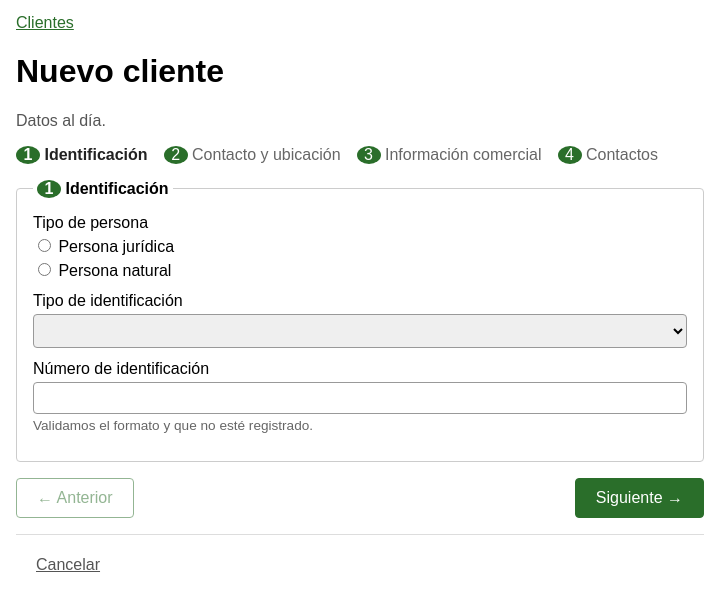
Test case: CustomerNewComponent (/nuevo-prospecto) › Número de identificación › fld_10bed3f3b1:custom-1 — un RUC que no tiene 13 dígitos o no termina en 001 dice «El RUC debe tener 13 dígitos y terminar en 001.»
Select "RUC" in the dropdown labelled "Tipo de identificación" at (360, 331), box x1=33 y1=314 x2=687 y2=348
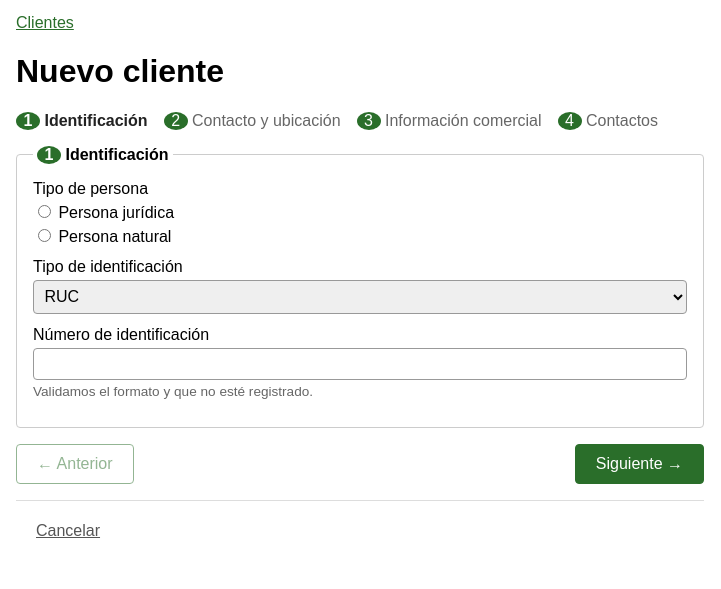
Type "0912345678002" into the field with id "idNumber" at (360, 364), box x1=33 y1=348 x2=687 y2=380
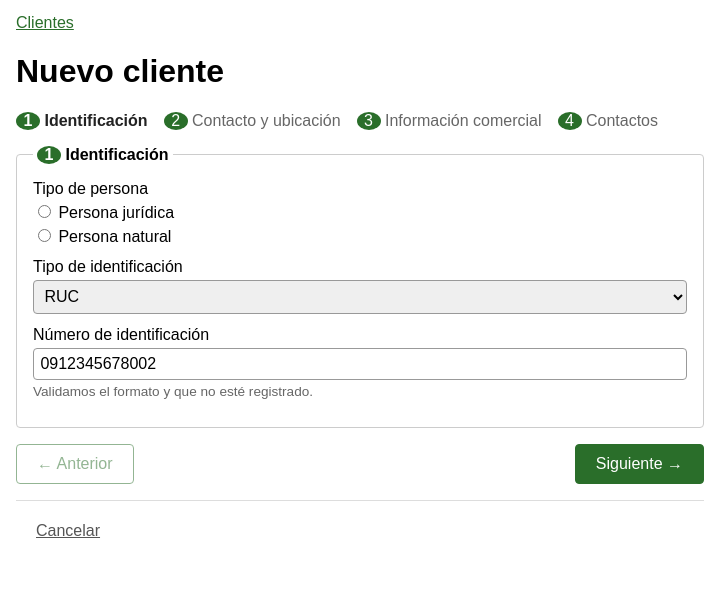
Leave the field with id "idNumber", box x1=33 y1=348 x2=687 y2=380
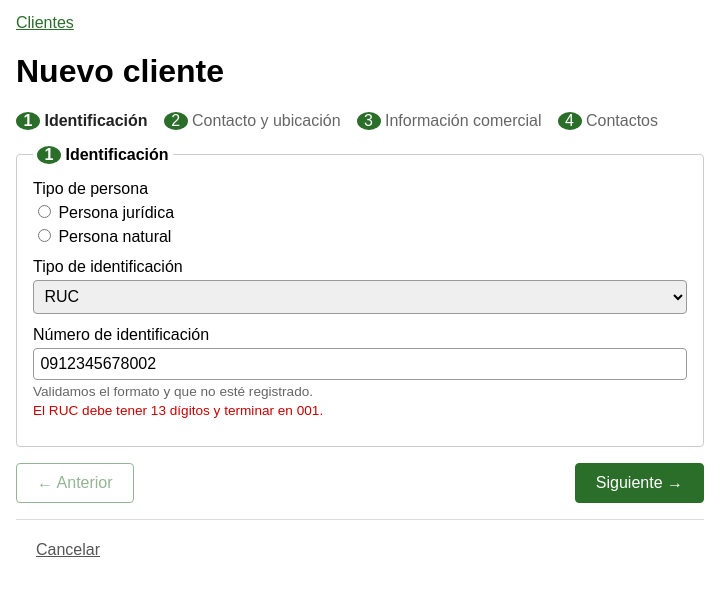
Expected: the text with id "err-idNumber" reads "El RUC debe tener 13 dígitos y terminar en 001.", x1=33 y1=403 x2=323 y2=418
Replace the text in the field with id "idNumber" with "0912345678001" at (360, 364), box x1=33 y1=348 x2=687 y2=380
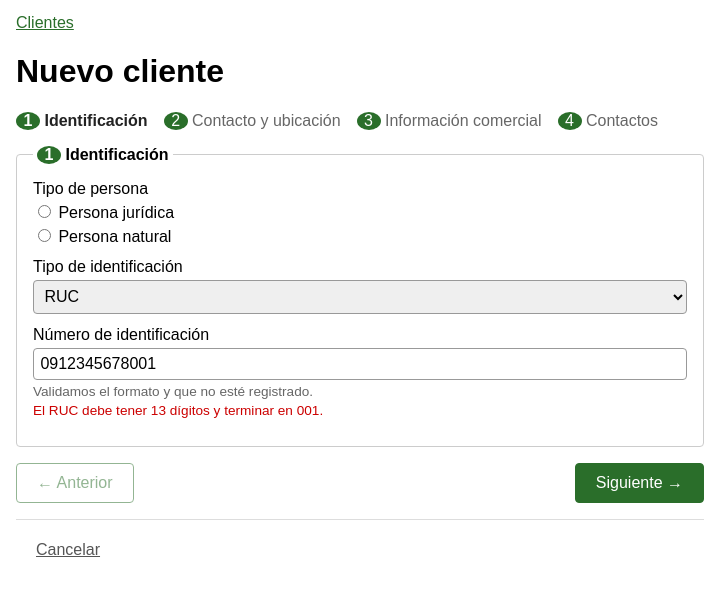
Leave the field with id "idNumber", box x1=33 y1=348 x2=687 y2=380
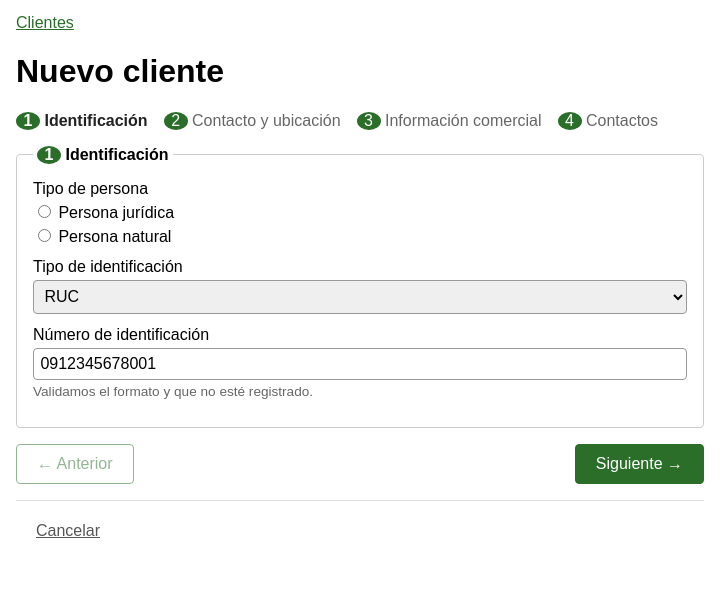
Expected: the text with id "err-idNumber" is gone
